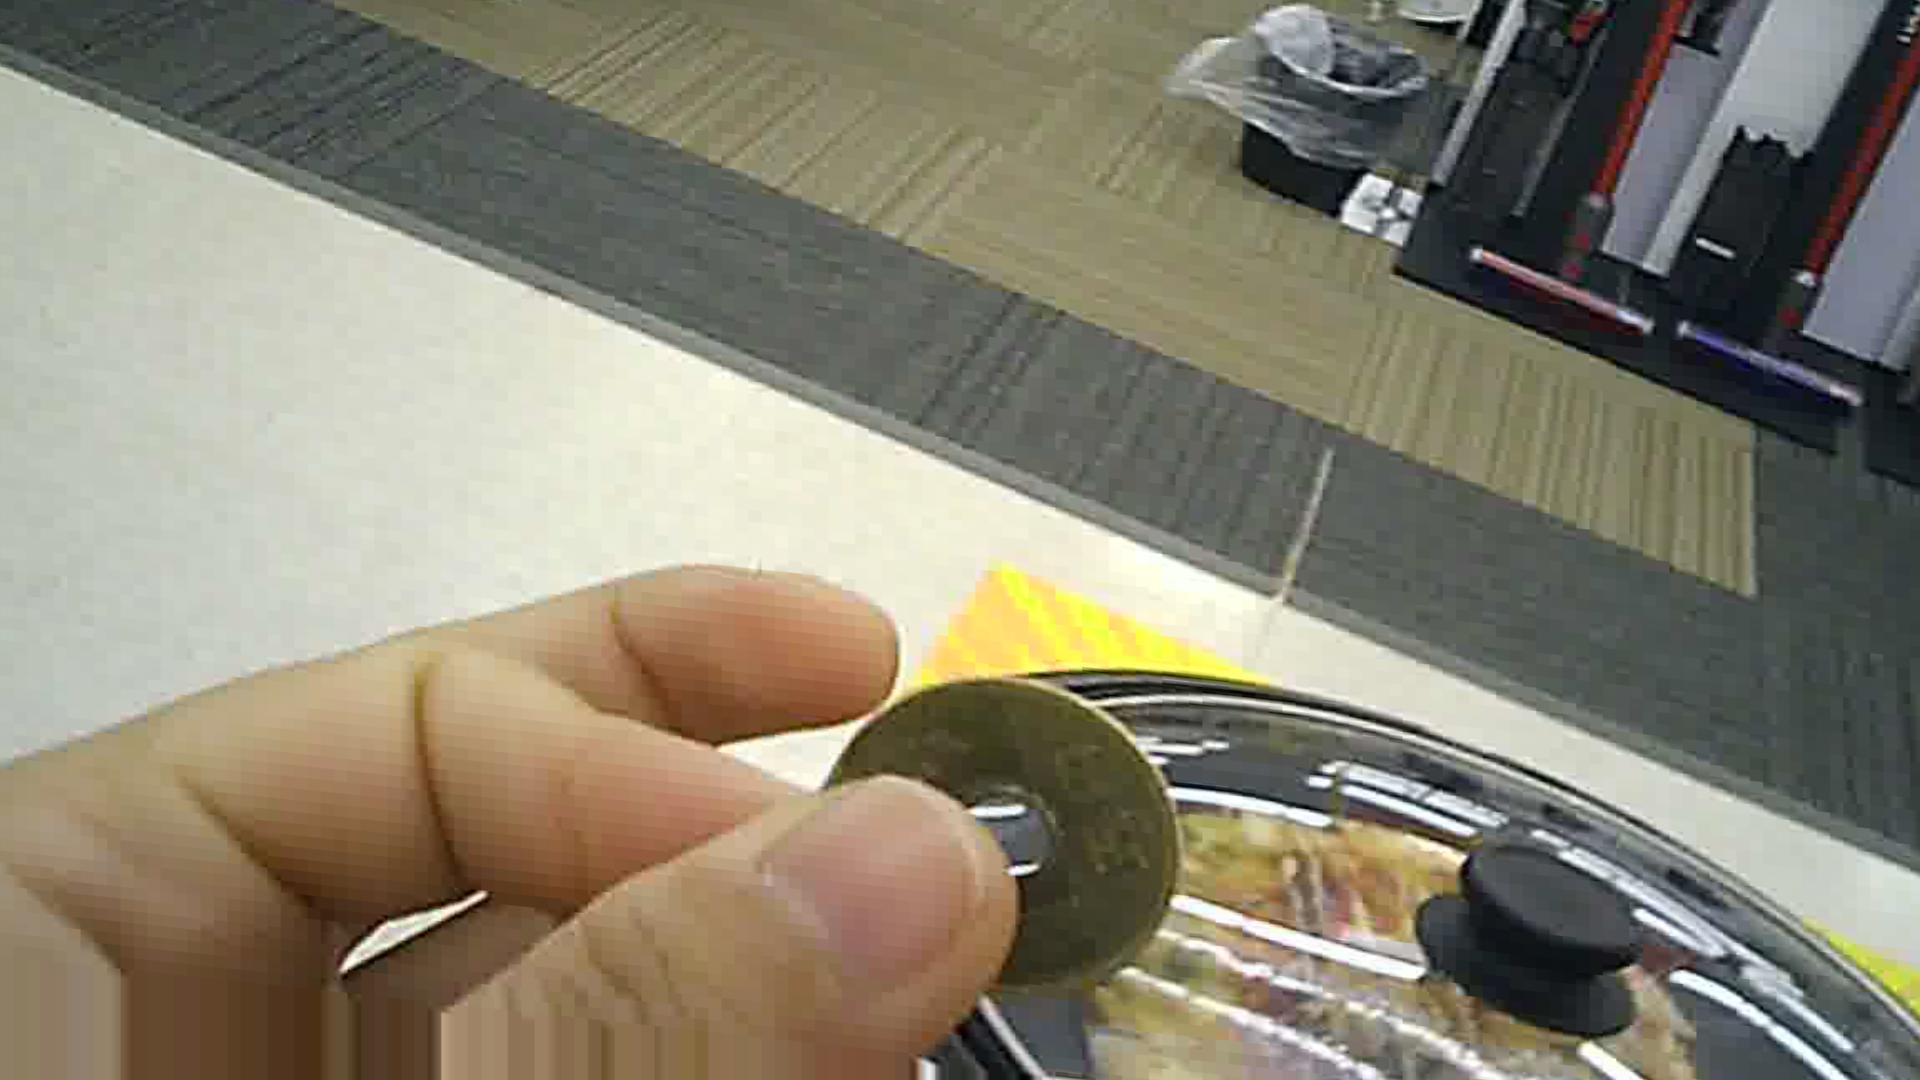5 Yen: (819, 673, 1182, 965)
